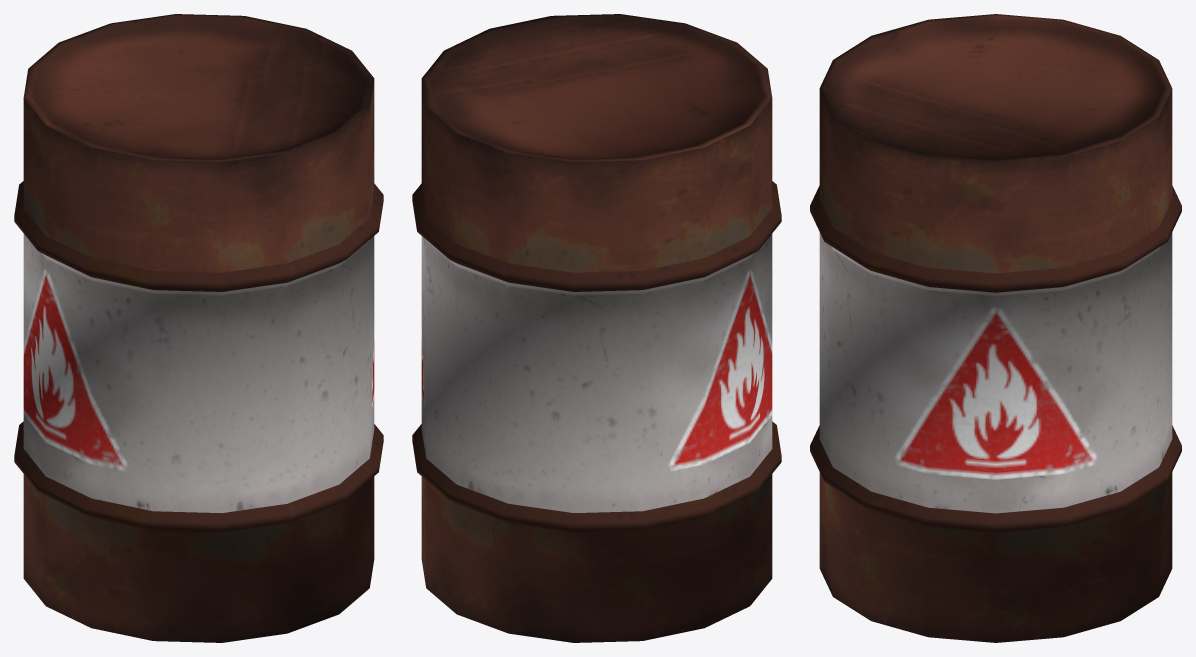
The model's file is ExplosiveBarrel.fbx.
3 views of the same model, side by side, from view 1: azimuth 30°, elevation 25°; view 2: azimuth 150°, elevation 25°; view 3: azimuth 270°, elevation 25° (orthographic).
Visible parts, largest first — view 1: ExplosiveCylinder; view 2: ExplosiveCylinder; view 3: ExplosiveCylinder.
Part boxes in pixels (left/top/right/bottom): ExplosiveCylinder: left=14, top=14, right=383, bottom=642; ExplosiveCylinder: left=412, top=14, right=781, bottom=642; ExplosiveCylinder: left=810, top=14, right=1181, bottom=642.
Bounding box in the file's own units: 1.05 × 1.5 × 1.05.
